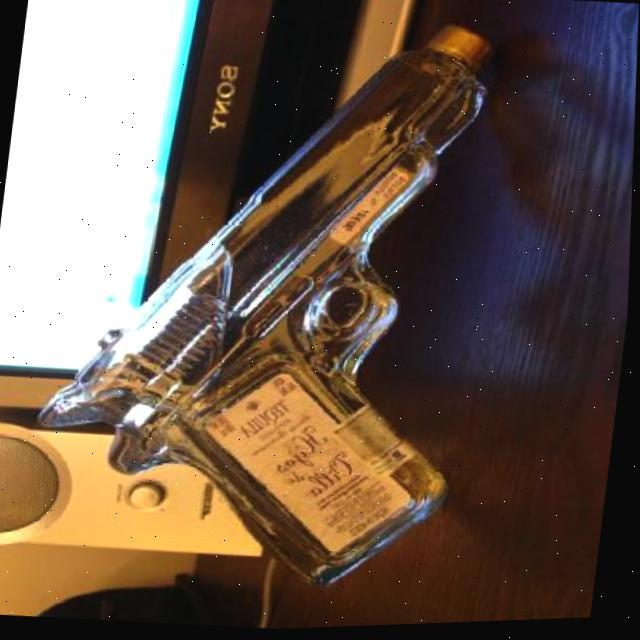gun: (21, 0, 506, 605)
